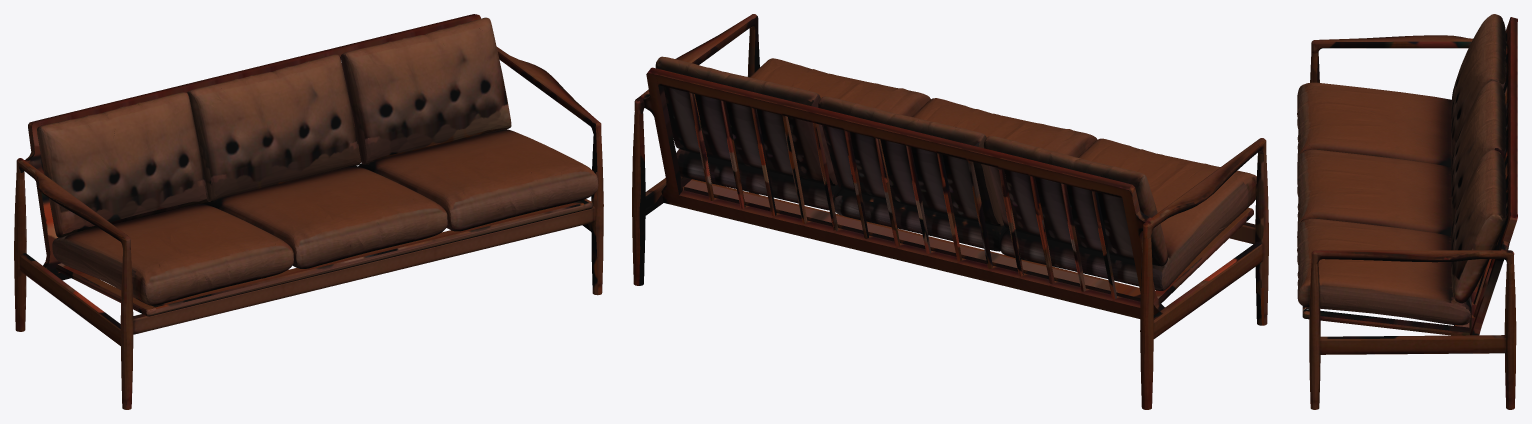
File: edited_mesh.glb
3 views of the same model, side by side, from view 1: azimuth 30°, elevation 25°; view 2: azimuth 150°, elevation 25°; view 3: azimuth 270°, elevation 25° (orthographic). The views are drawn at different scales.
Visible parts, largest first — view 1: solid_001_wire; view 2: solid_001_wire; view 3: solid_001_wire.
Boxes of the visible parts, <box> form: solid_001_wire: <box>14,14,603,409</box>; solid_001_wire: <box>632,14,1268,409</box>; solid_001_wire: <box>1297,14,1517,409</box>.
Bounding box in the file's own units: 2 × 0.7861 × 0.8303.
Materials: 1 (1 with a texture image).
